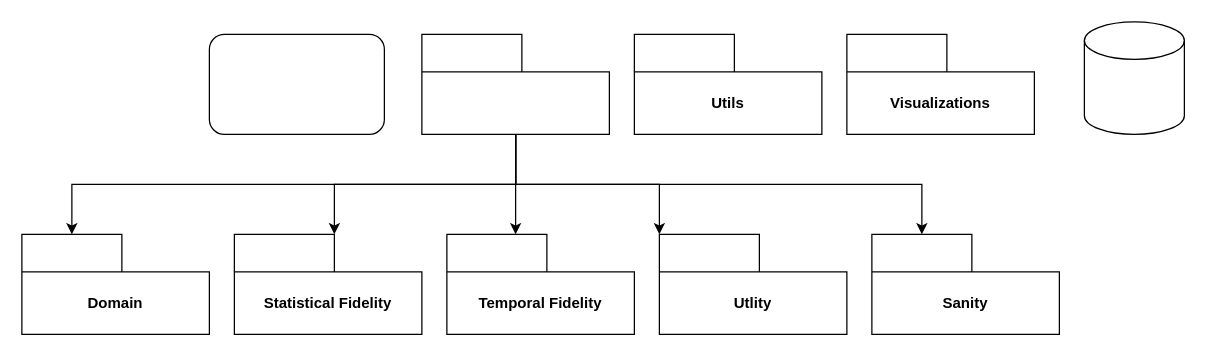
This 1206x356 diagram has some shape labels left out. The shapes that lost their labels are listed below. From the top down, each one's box as (x1, y1, x2, y2) in pixels, then its label:
(208, 33, 384, 134): Core.py
(421, 33, 609, 134): Metrics
(1083, 21, 1184, 134): Data
